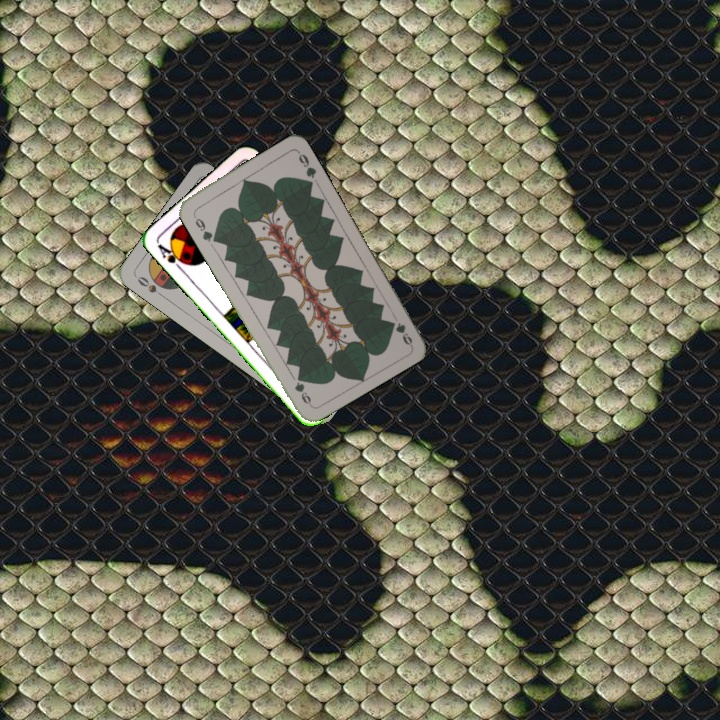G9: (189, 210, 218, 245), (386, 317, 415, 348)
SA: (153, 240, 190, 273)
SO: (132, 272, 167, 300)
